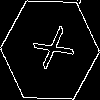X: (25, 25, 75, 76)
